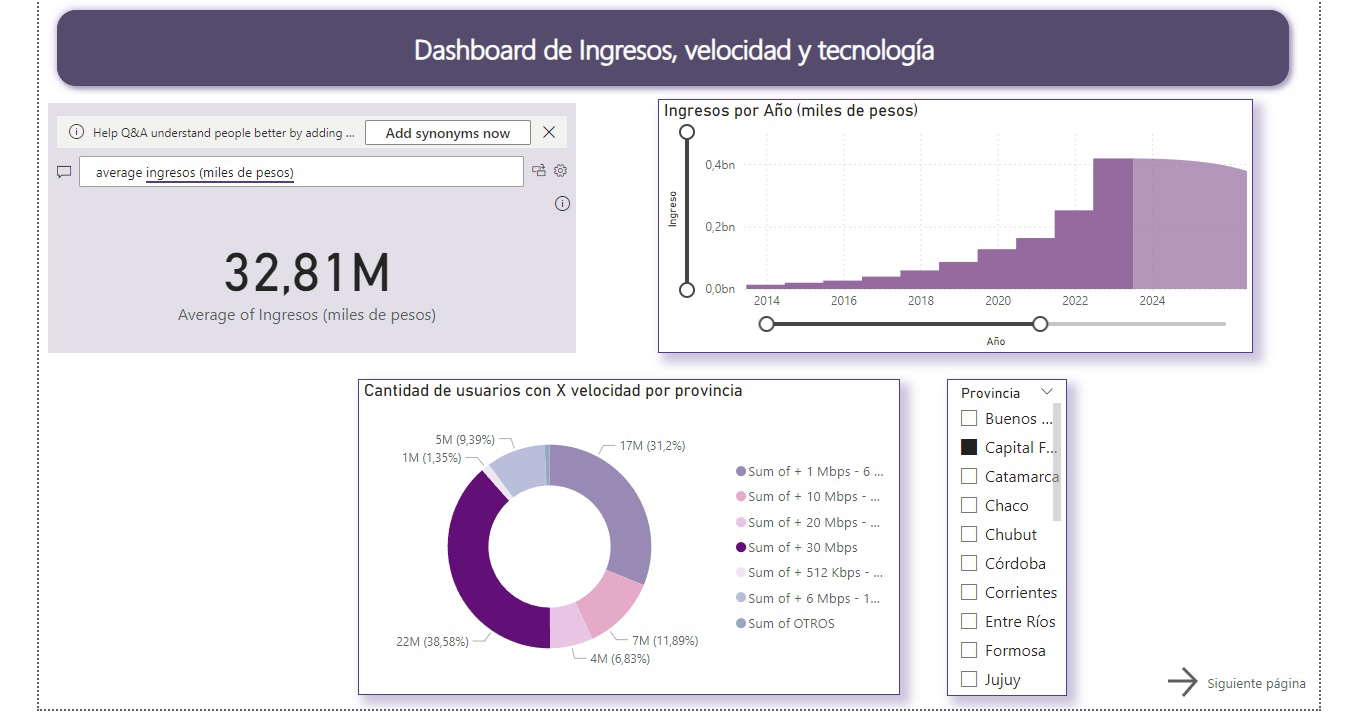

What the dashboard file says about the page in this screenshot:
{"tool":"powerbi","page":{"name":"Ingresos, velocidad y tecnología","canvas":[1280,720],"ordinal":0},"visuals":[{"type":"ribbonChart","title":"Ingresos por Año (miles de pesos)","fields":{"Y":["Sum(Ingresos.Ingresos (miles de pesos))"],"Category":["Ingresos.Año"]},"box":[618.9,110,595,254.5],"z":0},{"type":"donutChart","title":"Cantidad de usuarios con X velocidad por provincia","fields":{"Y":["Sum(Accesos por velocidad.+ 1 Mbps - 6 Mbps)","Sum(Accesos por velocidad.+ 10 Mbps - 20 Mbps)","Sum(Accesos por velocidad.+ 20 Mbps - 30 Mbps)","Sum(Accesos por velocidad.+ 30 Mbps)","Sum(Accesos por velocidad.+ 512 Kbps - 1 Mbps)","Sum(Accesos por velocidad.+ 6 Mbps - 10 Mbps)","Sum(Accesos por velocidad.OTROS)"]},"box":[319.2,390.1,541.8,315.7],"z":1000},{"type":"shape","box":[8.8,11.7,1249.8,94.3],"z":2000},{"type":"qnaVisual","box":[8.9,114.4,528.5,250],"z":3000},{"type":"slicer","fields":{"Values":["Accesos por velocidad.Provincia"]},"box":[908,390.1,119.7,316.6],"z":4000},{"type":"actionButton","box":[1122.6,673,148.1,39.9],"z":5000}]}

Visuals, with their boxes on the page's 1280x720 design canvas (x1, y1, x2, y2). These are canvas units, not pixel positions in the 1370x728 screenshot, which may show the page scaled, cropped or inside an application window:
"Ingresos por Año (miles de pesos)" ribbonChart: left=619, top=110, right=1214, bottom=364
"Cantidad de usuarios con X velocidad por provincia" donutChart: left=319, top=390, right=861, bottom=706
shape: left=9, top=12, right=1259, bottom=106
qnaVisual: left=9, top=114, right=537, bottom=364
slicer - Accesos por velocidad.Provincia: left=908, top=390, right=1028, bottom=707
actionButton: left=1123, top=673, right=1271, bottom=713
